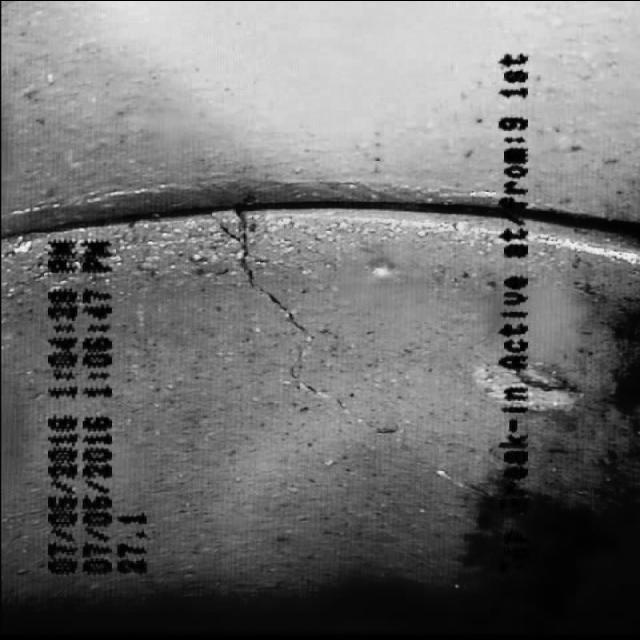Crack: (203, 245, 397, 425)
